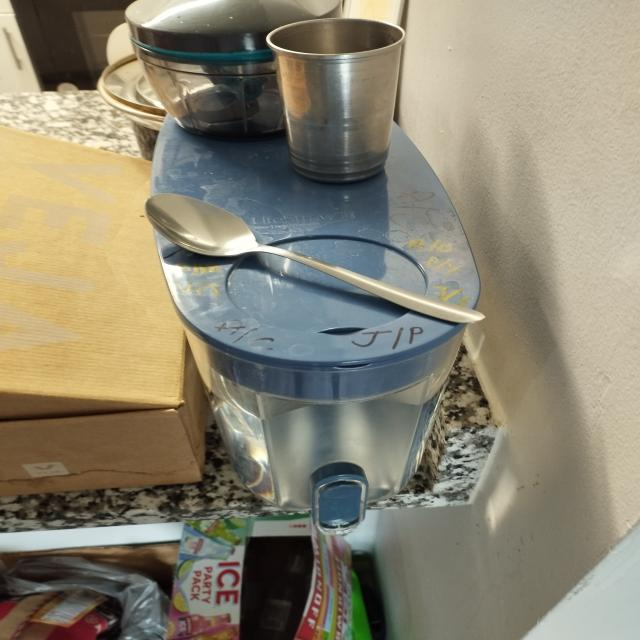Spoon: (138, 176, 531, 332)
